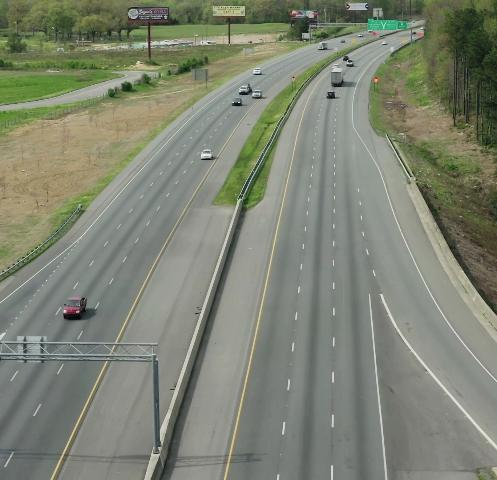car: (198, 146, 215, 162), (239, 85, 251, 95), (252, 90, 262, 98), (232, 98, 242, 106), (253, 67, 262, 75), (327, 91, 336, 98), (343, 55, 350, 61), (347, 60, 354, 66), (333, 64, 339, 68), (382, 41, 387, 45), (413, 32, 418, 36), (341, 39, 345, 43), (358, 34, 363, 37), (368, 29, 373, 32)
pickup-truck: (63, 294, 88, 321)
truck: (331, 68, 344, 87), (318, 42, 327, 50)
